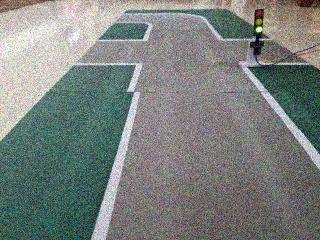green: (249, 6, 269, 40)
